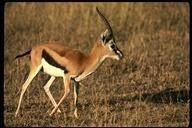antelope: (12, 6, 125, 118)
grass: (126, 5, 188, 81), (88, 82, 186, 125), (6, 4, 93, 41)
